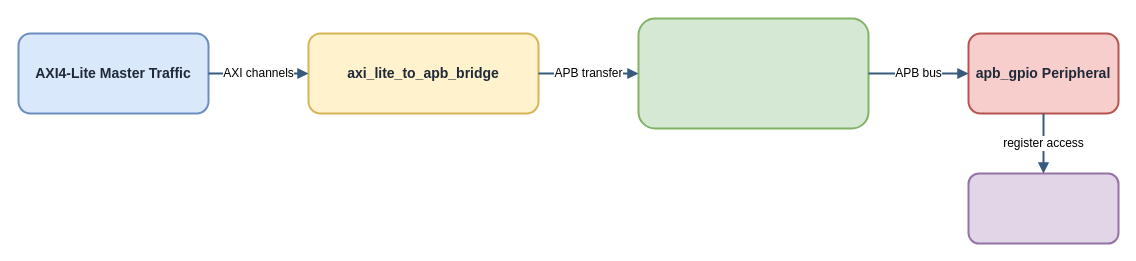
This 1136x261 diagram has some shape labels left out. Each missing label, with the centre of its shape:
"4 × 32-bit Register Map" goes at (x=1043, y=208).
"APB PSEL · PENABLE · PWRITE PADDR · PWDATA" goes at (x=753, y=73).
